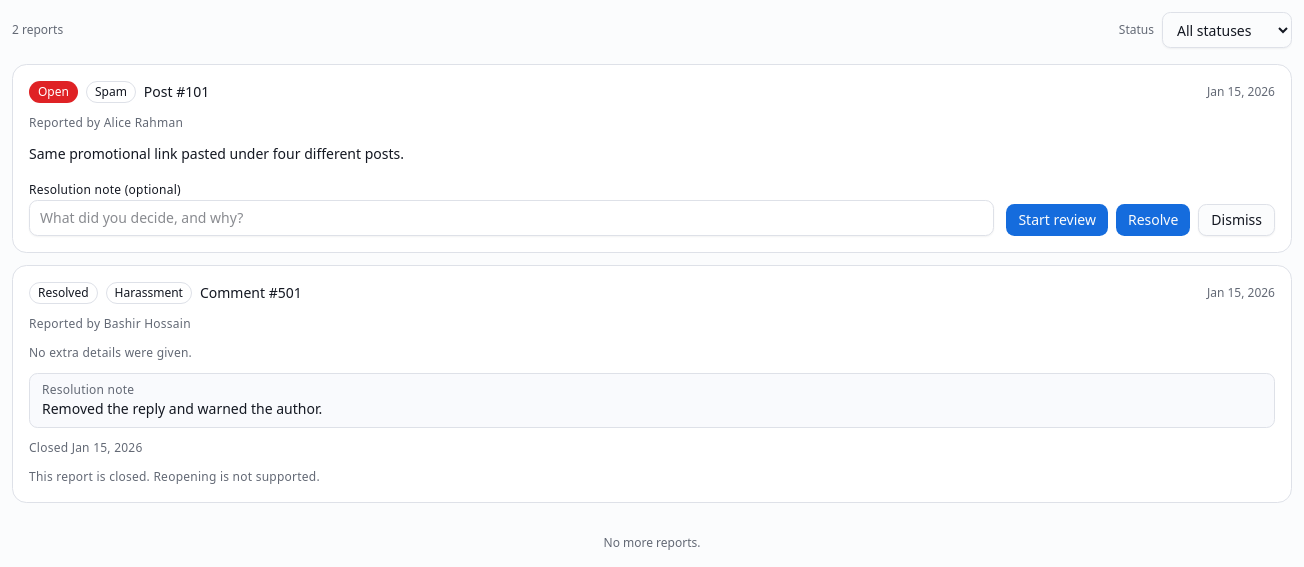
Test: ReportList › narrows the request when a status filter is chosen
expect the text "Same promotional link pasted under four different posts." is shown: met, box [29,144,404,163]
Step 1. Select "Resolved" in the dropdown labelled "Status" → (1227, 30), box [1162,12,1292,48]
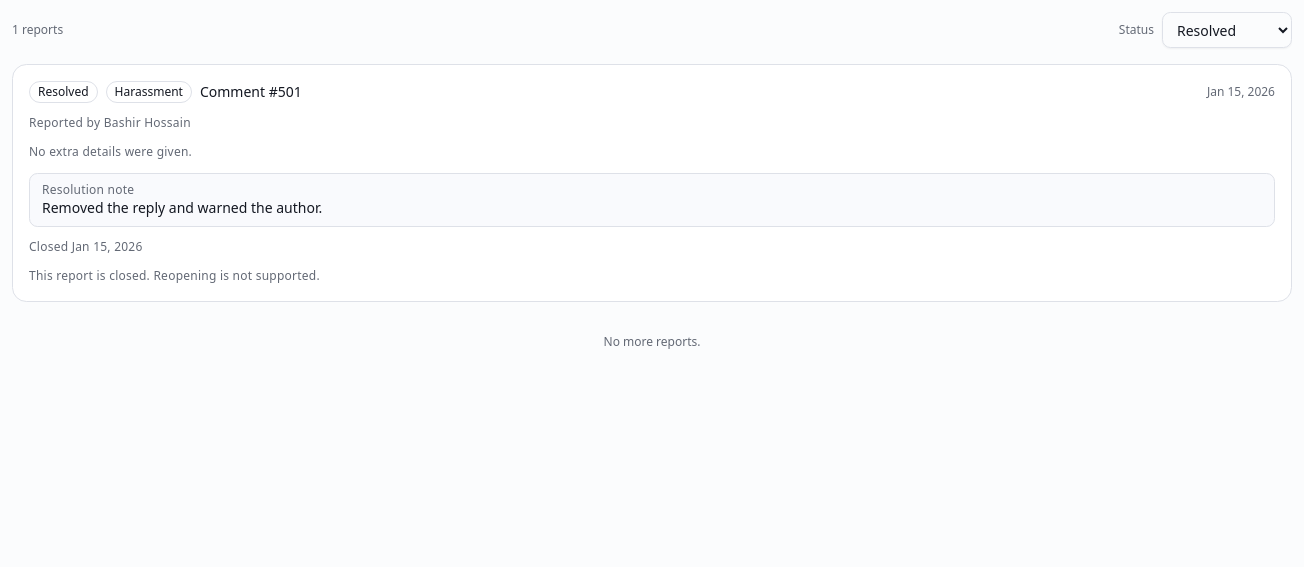
expect the text "Comment #501" is shown: met, box [200,82,302,102]
expect the text "Post #101" is gone: met
